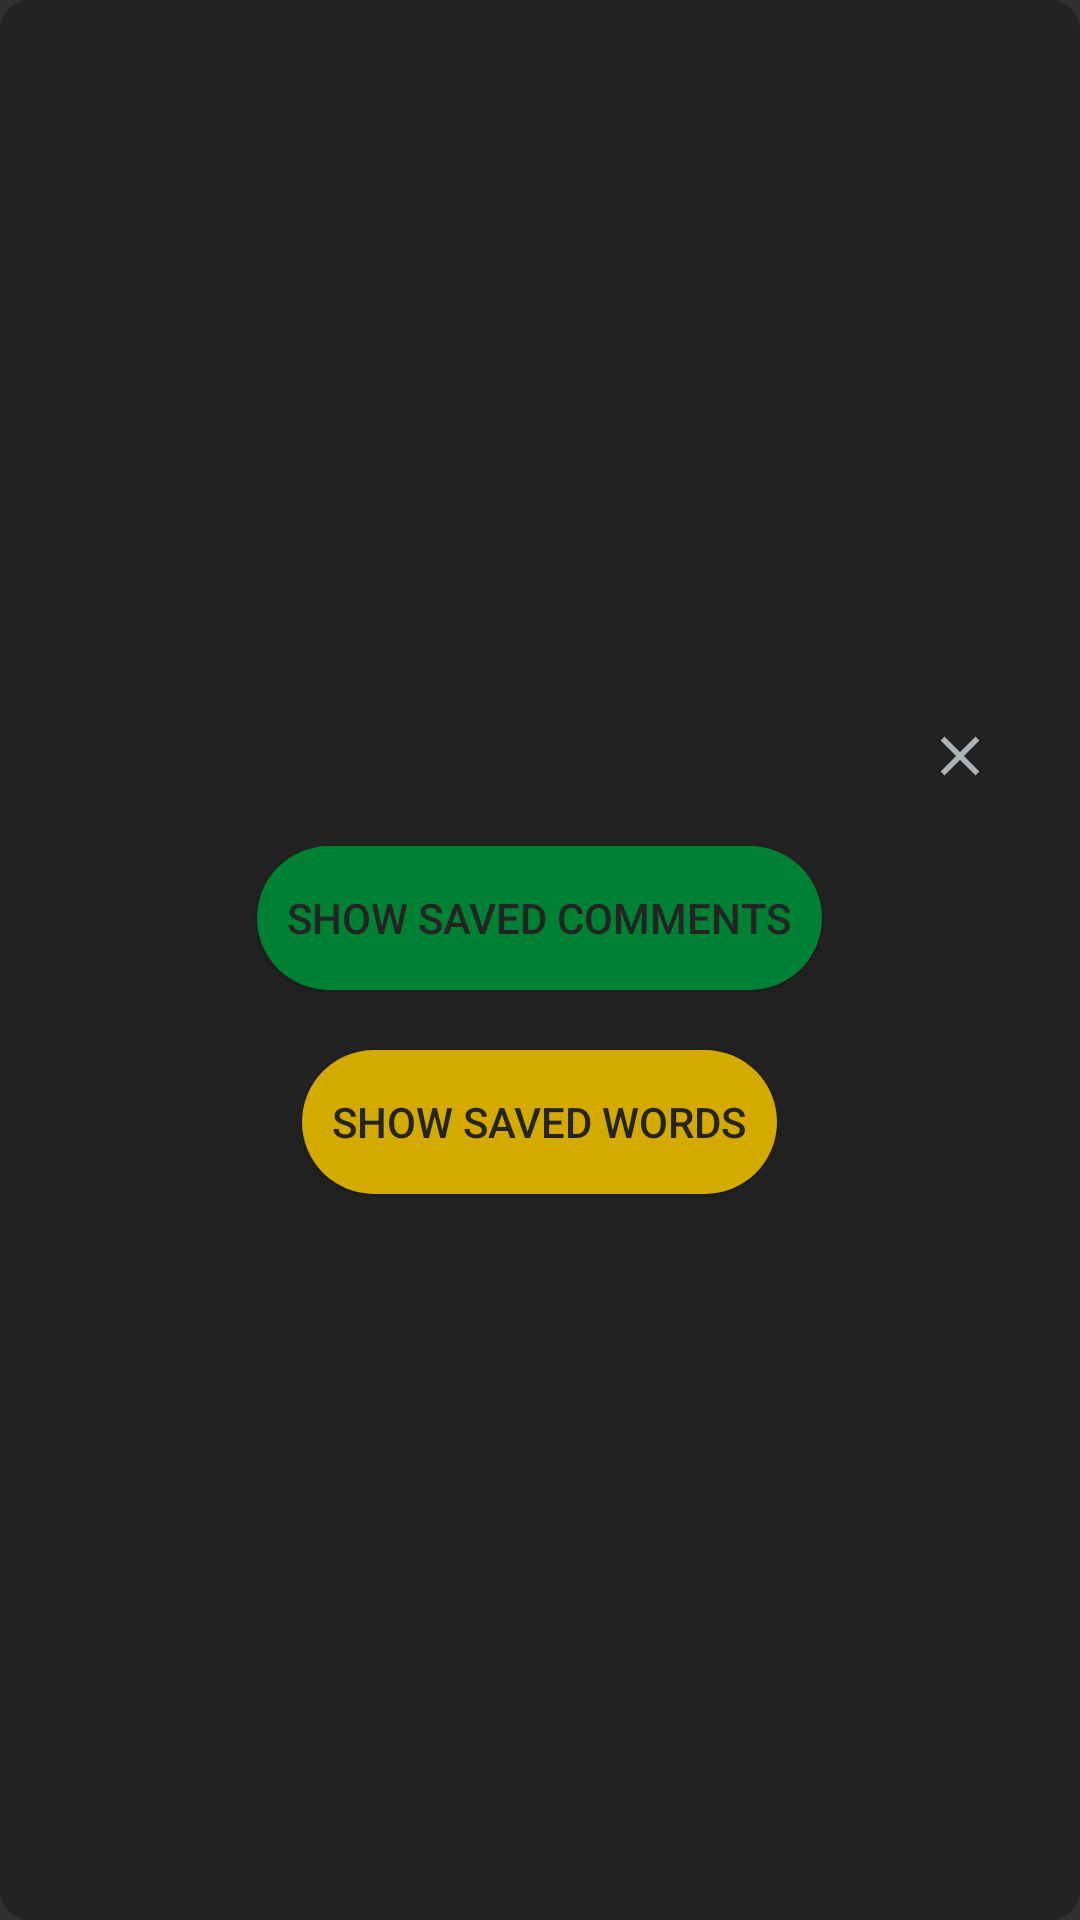

Icon click points for this 1080 x 1920 phone screenshot, format (x,y):
Close: (960,756)
